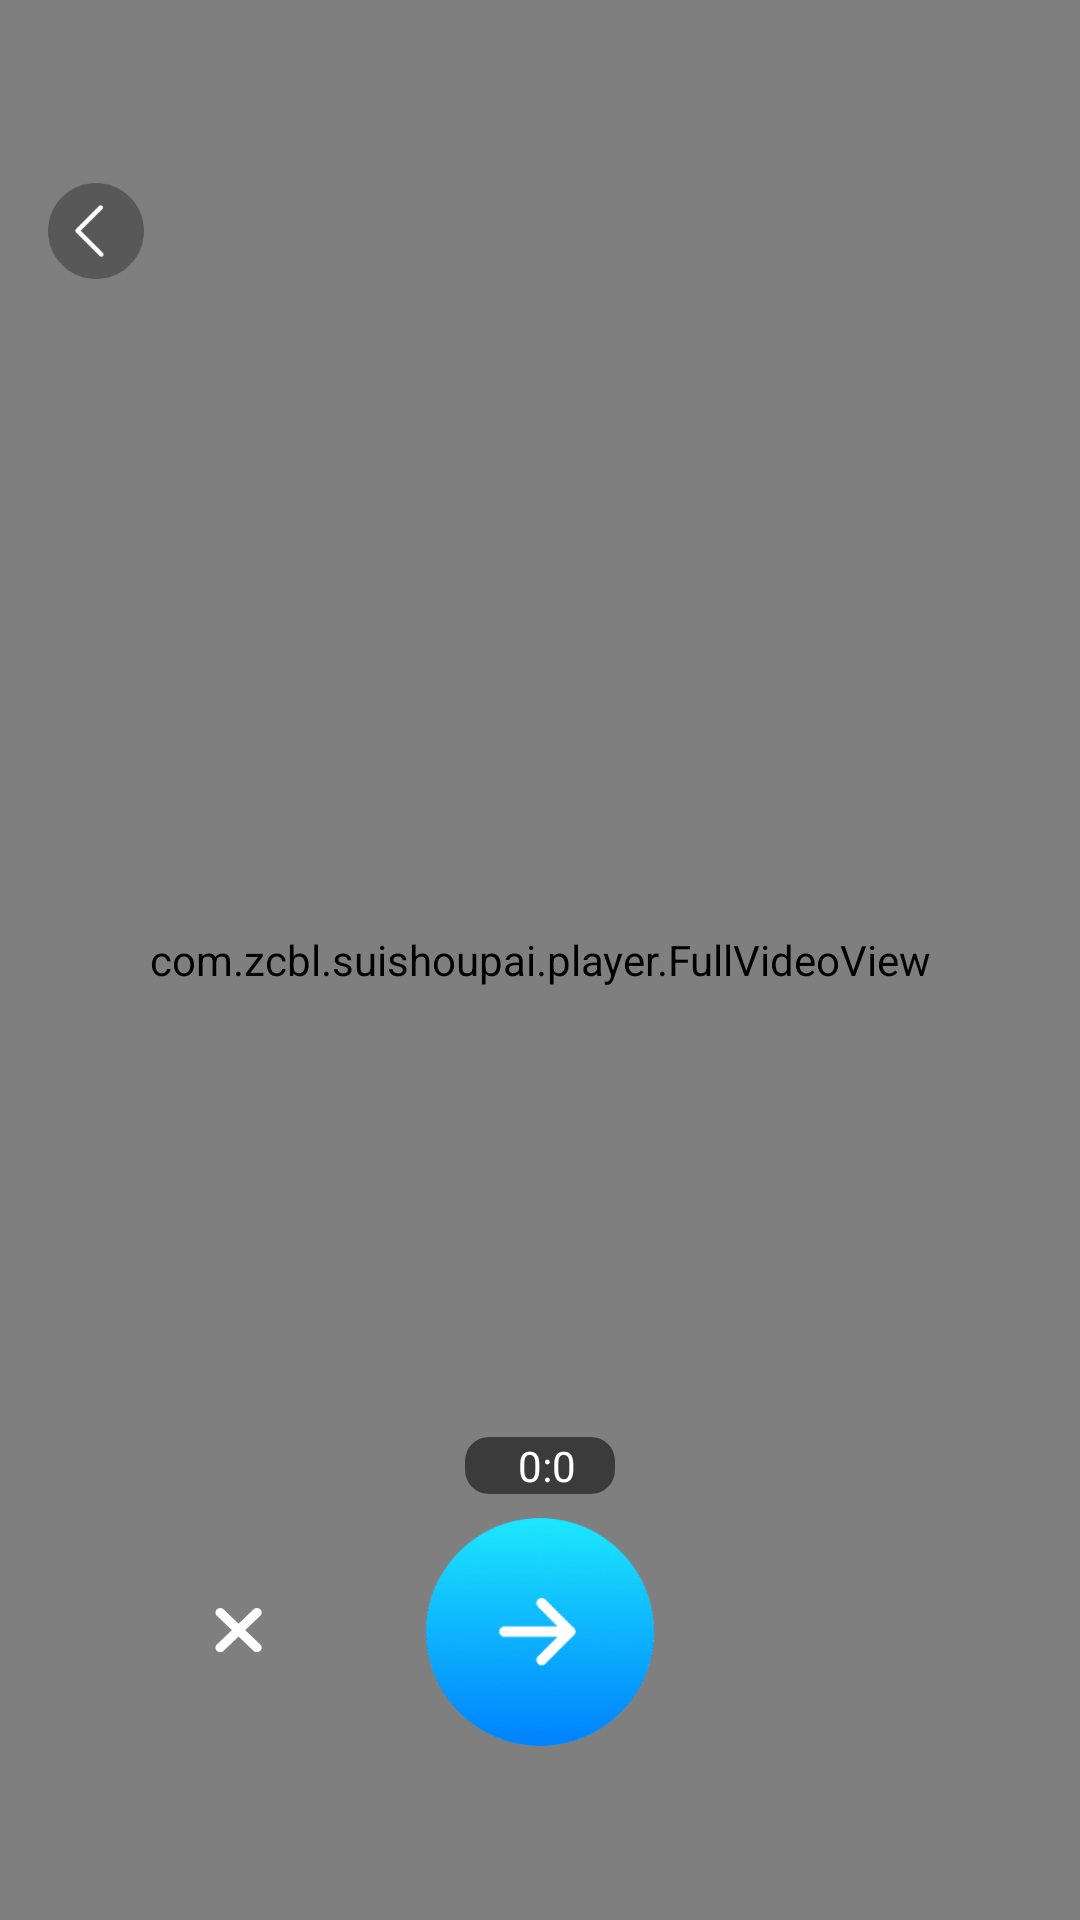

Point at icon controls on the screen. Image size 1080px×1920px, points as (x,y).
back bai: (96,231)
ssp finish: (540,1632)
ssp video delete: (238,1630)
